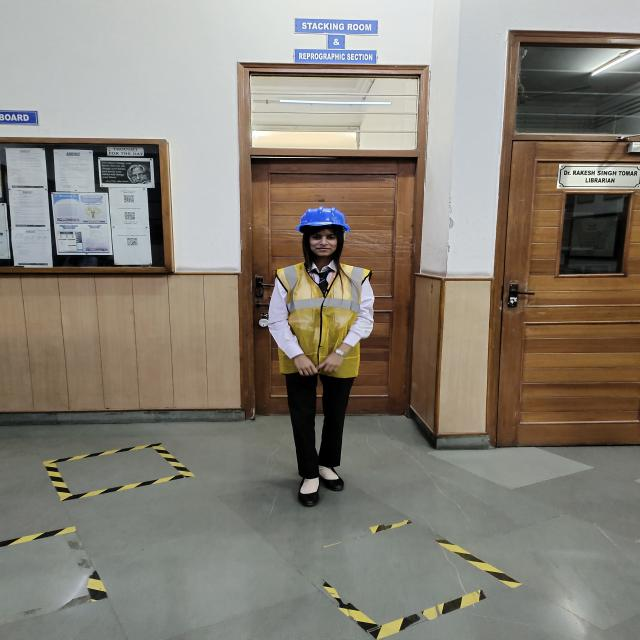safe: (269, 204, 374, 506)
